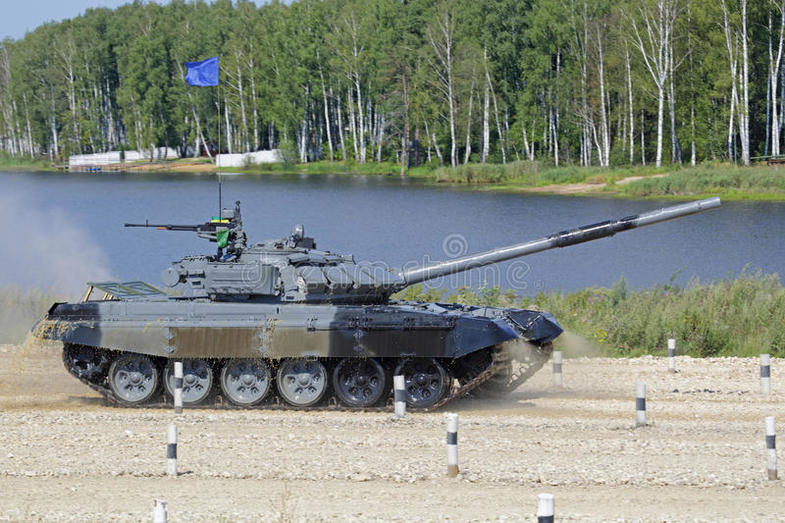t72: (46, 240, 580, 404)
